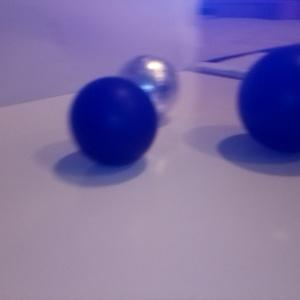alive_ball: (117, 54, 179, 118)
dead_ball: (66, 76, 158, 167), (235, 44, 300, 151)
